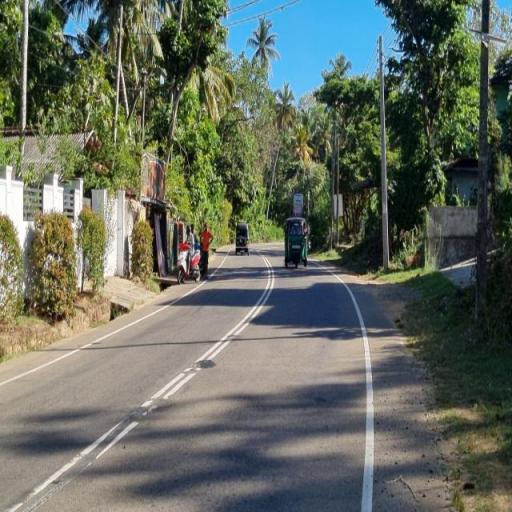double_white_line: (142, 255, 274, 418)
